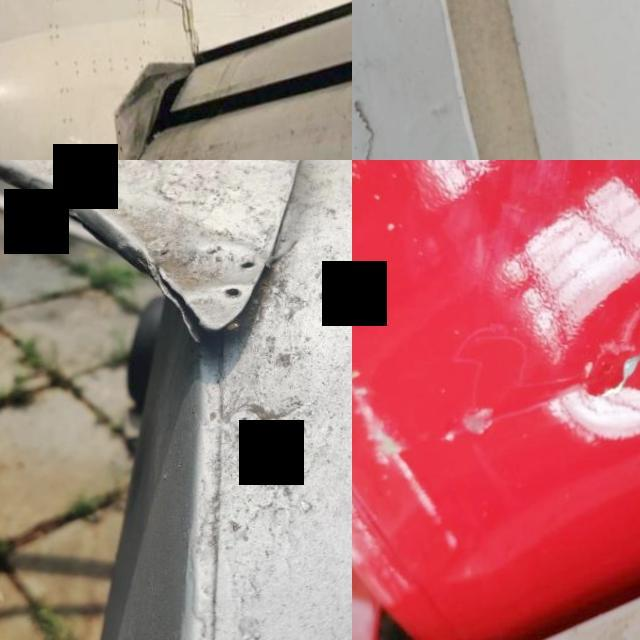Crack: (490, 295, 640, 434), (120, 235, 228, 368), (352, 64, 393, 160)
Dent: (176, 0, 202, 74)
